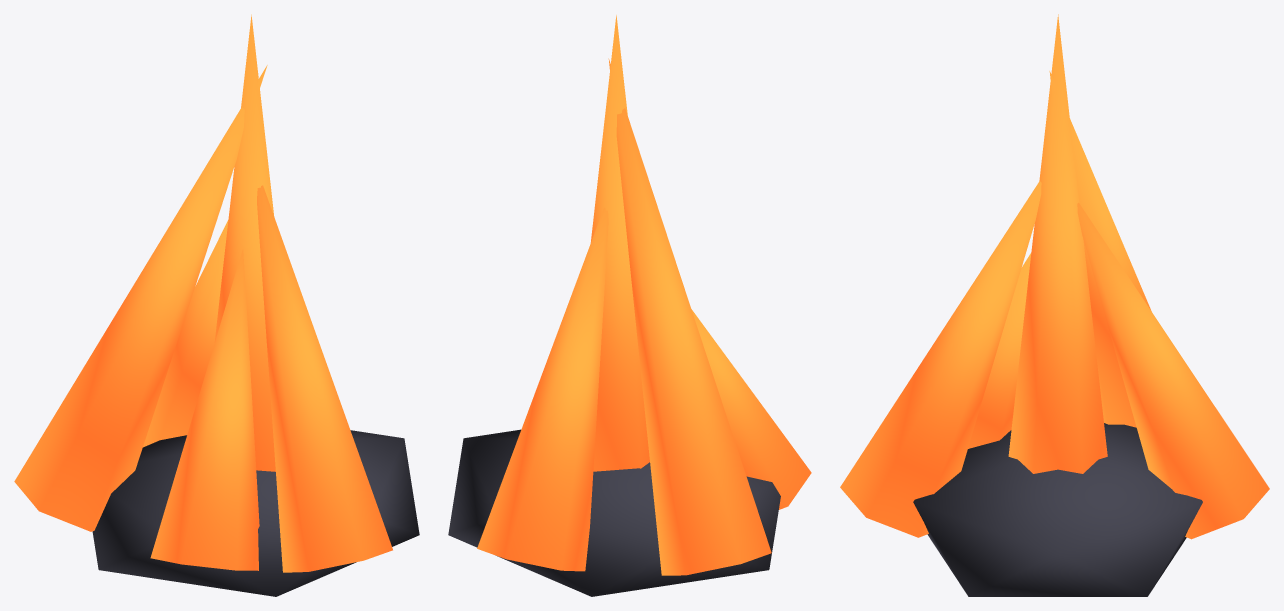
File: fire_crystal.glb
3 views of the same model, side by side, from view 1: azimuth 30°, elevation 25°; view 2: azimuth 150°, elevation 25°; view 3: azimuth 270°, elevation 25° (orthographic).
Parts seen in each view (by area): view 1: fire_crystal; view 2: fire_crystal; view 3: fire_crystal.
Part boxes in pixels (box(x1,y1,x2,y2)): fire_crystal: box(14, 14, 419, 596); fire_crystal: box(448, 15, 811, 596); fire_crystal: box(840, 14, 1269, 596).
Bounding box in the file's own units: 1.38 × 2.17 × 1.51.
